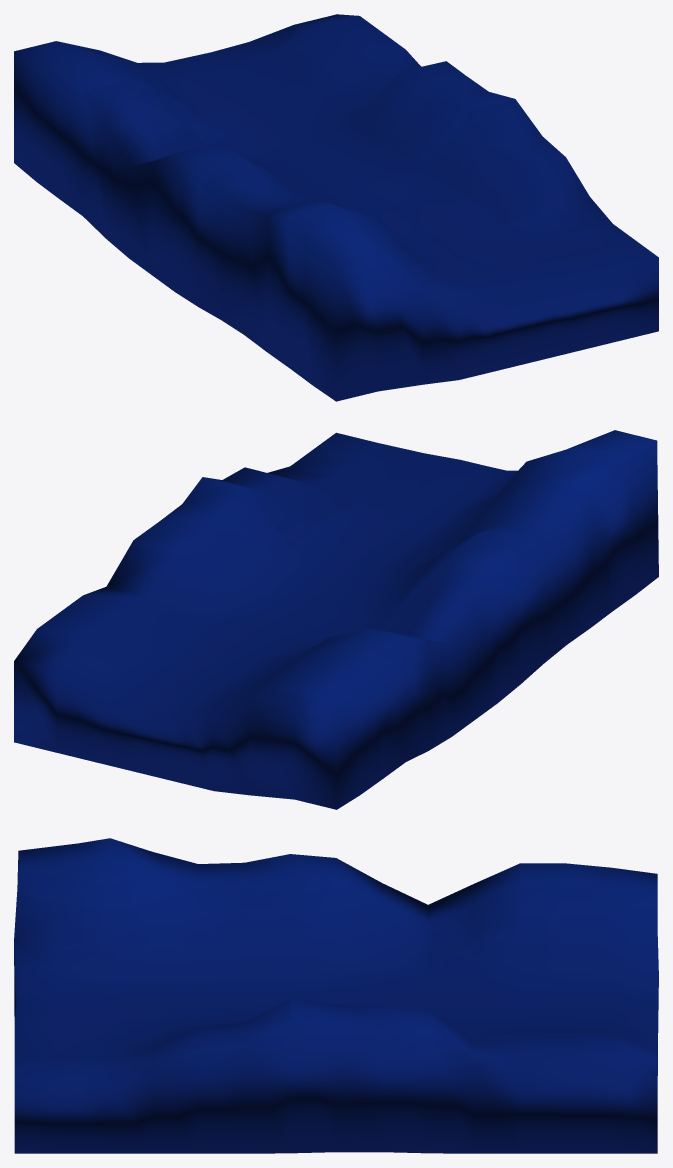
File: Chemin2.fbx
3 renders of one model, top to bottom at view 1: azimuth 30°, elevation 25°; view 2: azimuth 150°, elevation 25°; view 3: azimuth 270°, elevation 25°, orthographic.
Parts seen in each view (by area): view 1: Cube.001; view 2: Cube.001; view 3: Cube.001.
Part boxes in pixels (box(x1,y1,x2,y2)): Cube.001: box(14, 14, 658, 401); Cube.001: box(14, 430, 658, 809); Cube.001: box(14, 838, 658, 1153).
Bounding box in the file's own units: 342 × 163 × 594.
